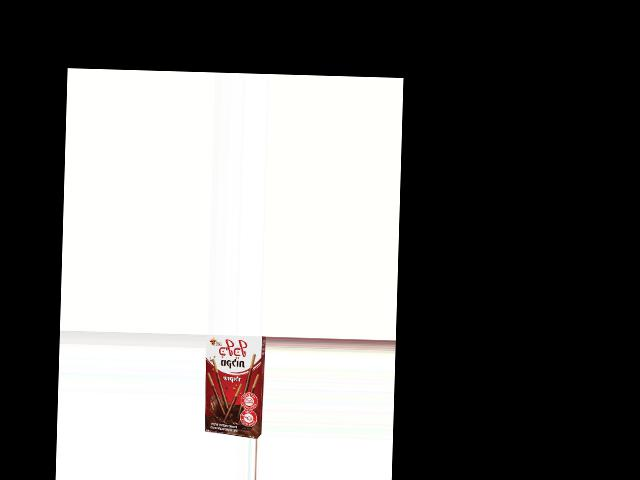chocolate: (203, 334, 264, 432)
